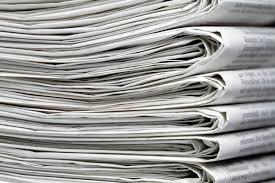Printing industry: (2, 1, 275, 183)
